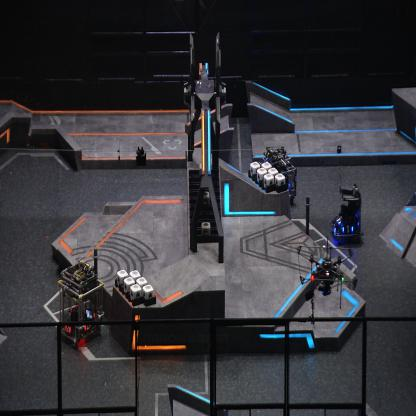car: (57, 258, 104, 349), (256, 146, 297, 206), (329, 184, 364, 242)
